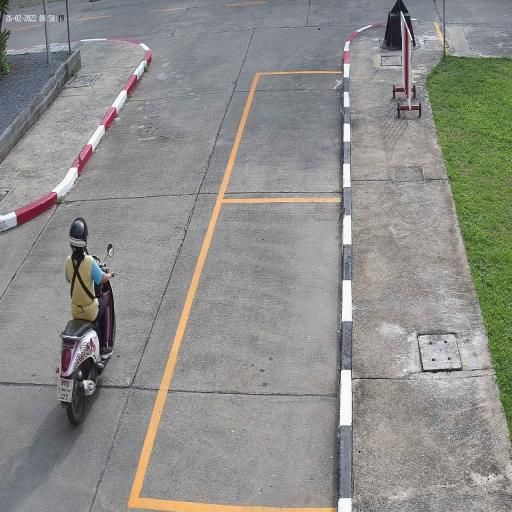motorcycle: (55, 299, 118, 430)
